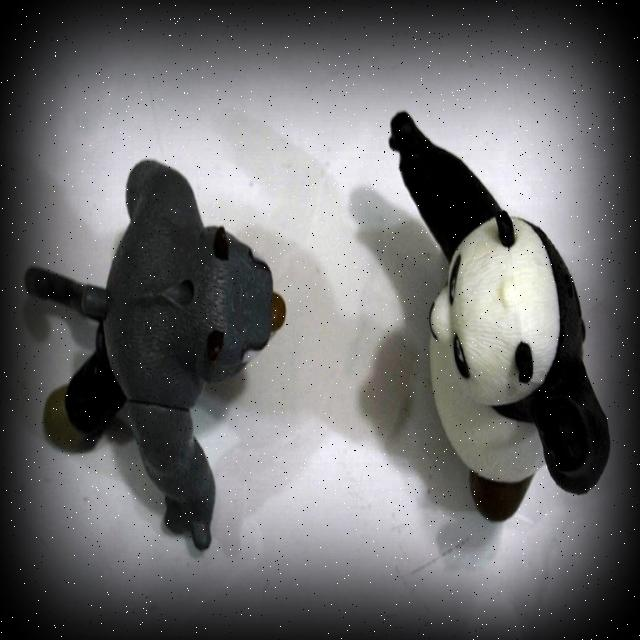panda: (387, 110, 610, 522)
